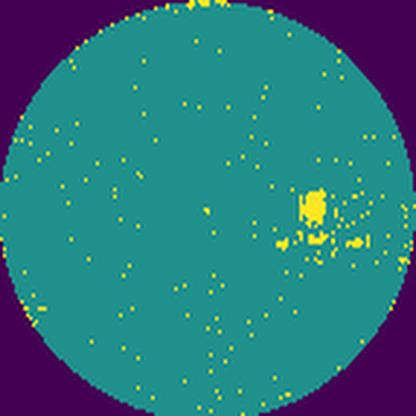Loc: (298, 188, 332, 230)
